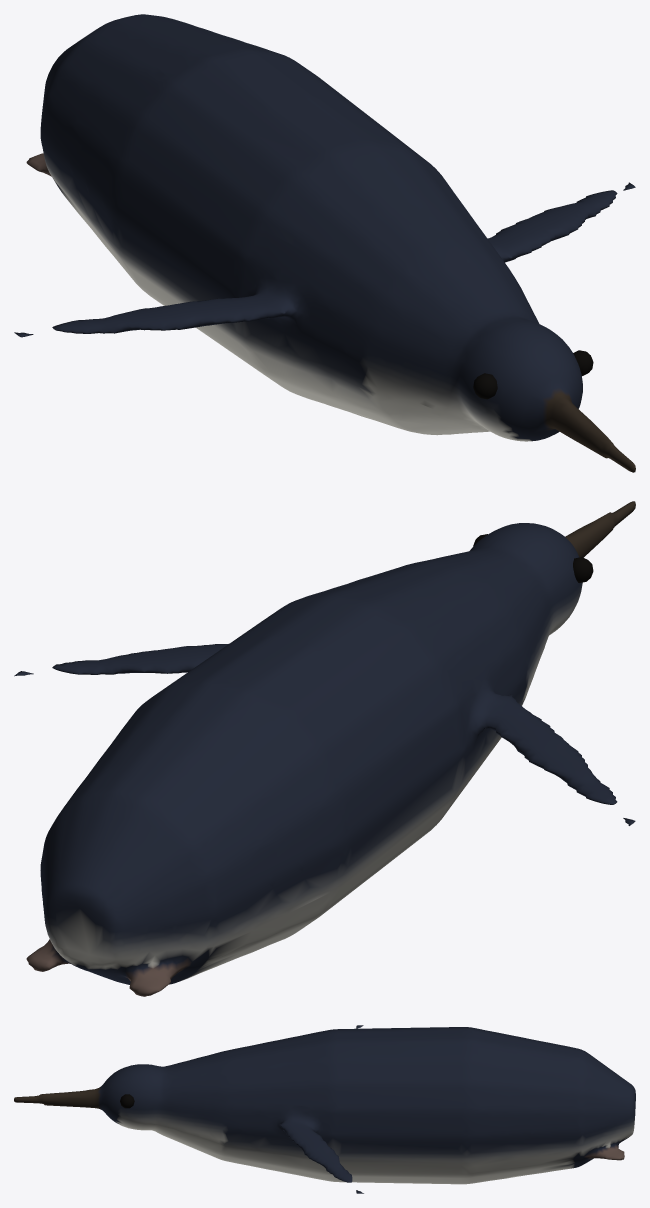
Rendered from AnthropornisNordenskjoeldi.fbx.
3 renders of one model, top to bottom at view 1: azimuth 30°, elevation 25°; view 2: azimuth 150°, elevation 25°; view 3: azimuth 270°, elevation 25°, orthographic. The views are drawn at different scales.
Parts seen in each view (by area): view 1: AnthropornisNordenskjoeldi; view 2: AnthropornisNordenskjoeldi; view 3: AnthropornisNordenskjoeldi.
Boxes of the visible parts, left/top/right/bottom form: AnthropornisNordenskjoeldi: left=14, top=14, right=635, bottom=472; AnthropornisNordenskjoeldi: left=14, top=501, right=635, bottom=996; AnthropornisNordenskjoeldi: left=14, top=1025, right=635, bottom=1193.
Bounding box in the file's own units: 1.29 × 0.5113 × 2.01.
